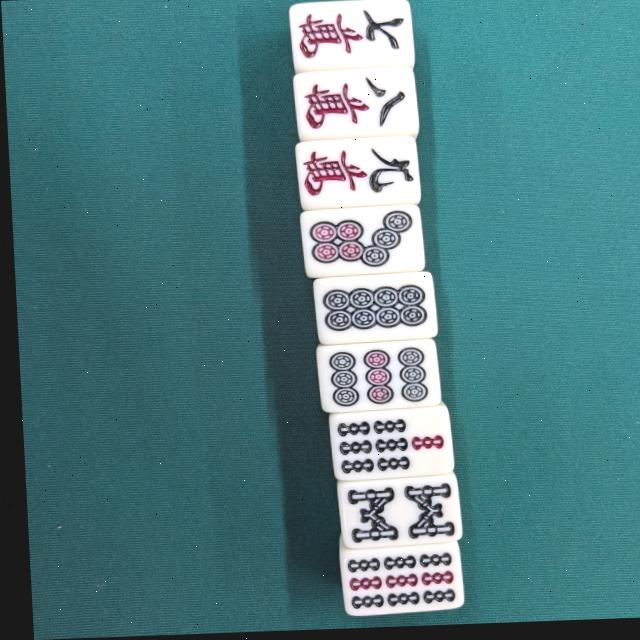7m: (287, 2, 414, 74)
7p: (296, 207, 421, 280)
7s: (321, 408, 449, 480)
8m: (291, 70, 416, 142)
8p: (310, 275, 432, 346)
8s: (329, 477, 456, 547)
9m: (293, 137, 418, 211)
9p: (310, 341, 437, 411)
9s: (332, 542, 457, 617)
